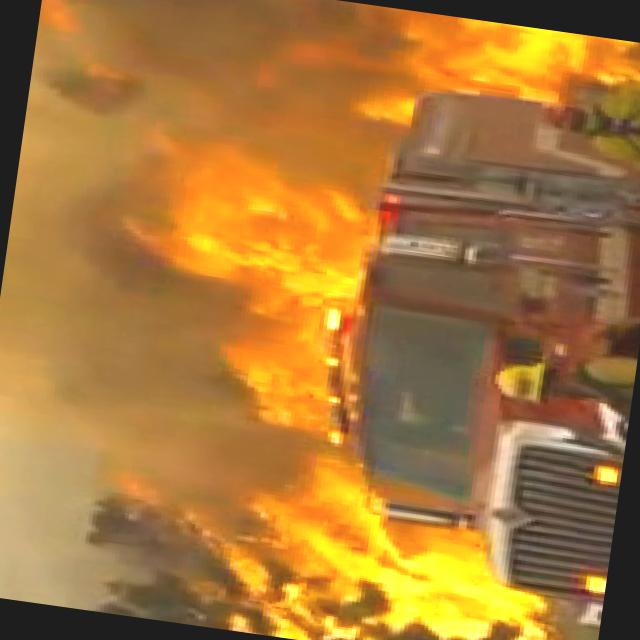fire: (47, 83, 410, 465), (75, 466, 530, 640), (218, 0, 640, 108)
